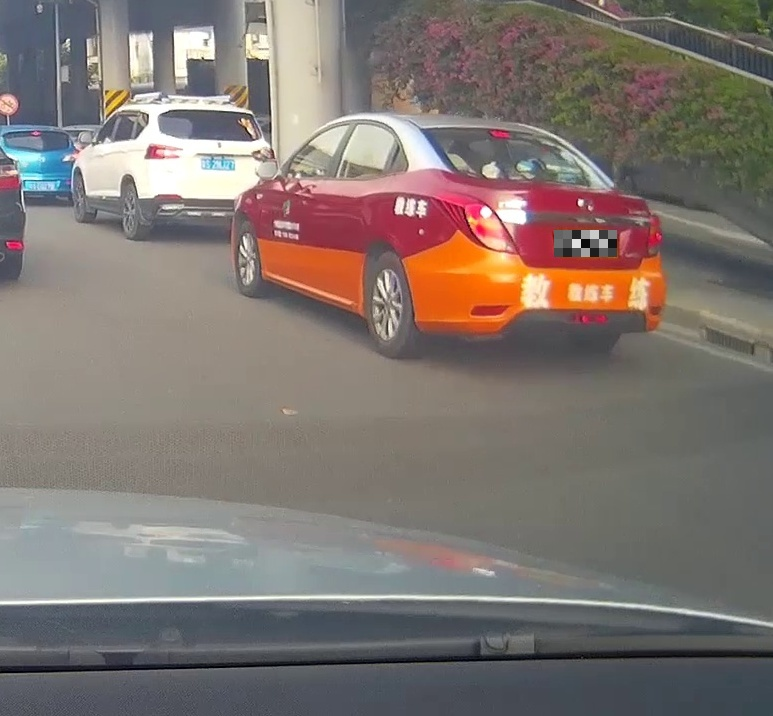L_light: (463, 203, 518, 255), (144, 144, 183, 159)
R_light: (646, 215, 663, 256), (252, 148, 275, 162)
T_light: (199, 110, 222, 117), (489, 131, 510, 138)
day-left: (398, 114, 665, 357)
day-no: (140, 104, 276, 245)
plate_1: (554, 230, 617, 257)
